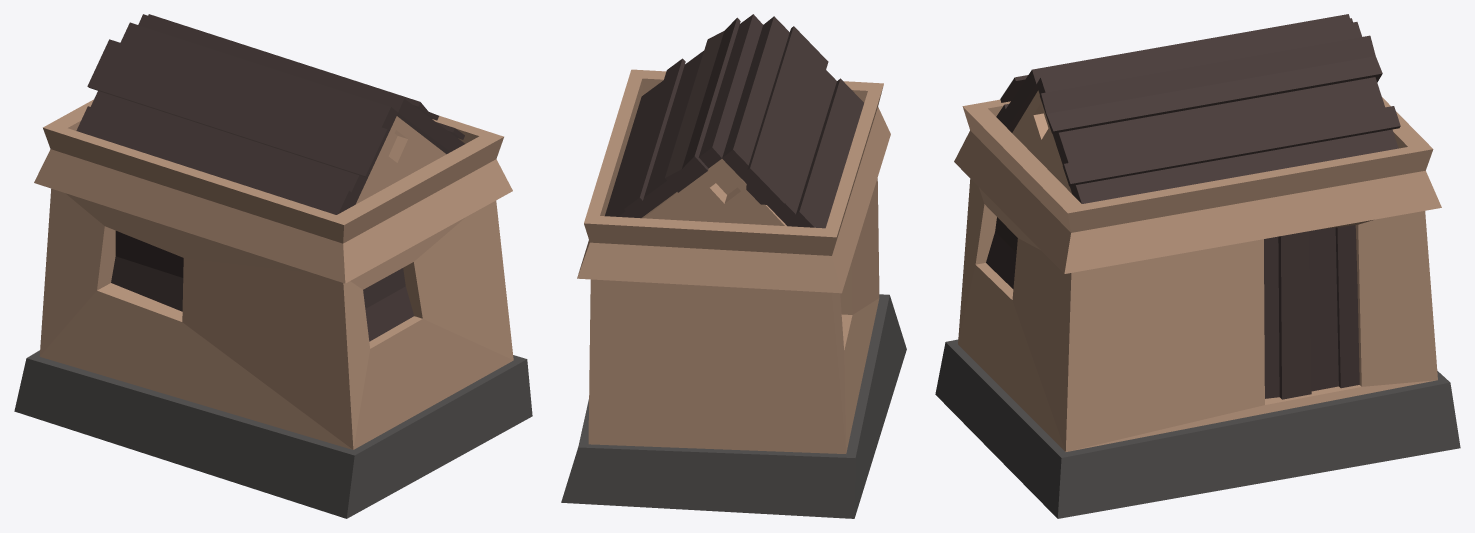
File: house1.fbx
3 renders of one model, left to right at view 1: azimuth 30°, elevation 25°; view 2: azimuth 150°, elevation 25°; view 3: azimuth 270°, elevation 25°, orthographic. The views are drawn at different scales.
Visible parts, largest first — view 1: pCube50, pCube52, pCube51, pCube53; view 2: pCube50, pCube52, pCube51, pCube54; view 3: pCube50, pCube51, pCube52, pCube53.
Boxes of the visible parts, bbox=[...] form: pCube50: bbox=[14, 99, 532, 518]; pCube52: bbox=[76, 22, 397, 214]; pCube51: bbox=[138, 14, 464, 154]; pCube53: bbox=[355, 116, 446, 204]; pCube50: bbox=[561, 69, 906, 518]; pCube52: bbox=[722, 16, 863, 228]; pCube51: bbox=[605, 14, 762, 218]; pCube54: bbox=[641, 159, 786, 226]; pCube50: bbox=[935, 97, 1460, 518]; pCube51: bbox=[1036, 22, 1400, 203]; pCube52: bbox=[996, 14, 1352, 132]; pCube53: bbox=[1012, 90, 1071, 193].
Bounding box in the file's own units: 11.25 × 10.01 × 12.8.
